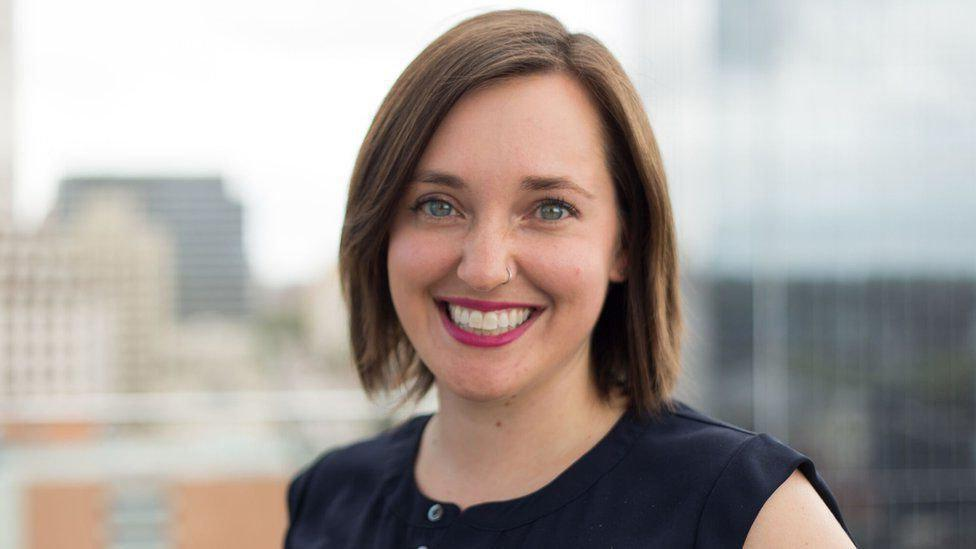Sober: (395, 105, 600, 384)
